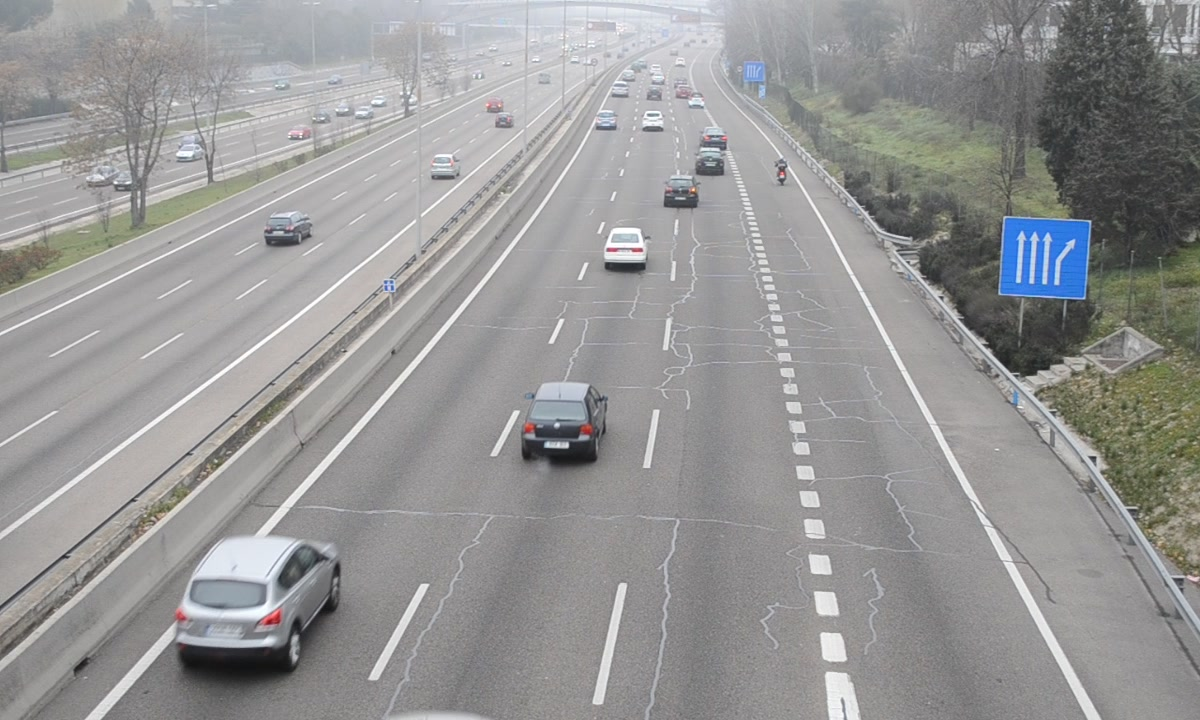car: (178, 535, 341, 656), (522, 382, 608, 456), (604, 226, 648, 268), (664, 175, 701, 209), (695, 147, 726, 177), (700, 126, 730, 149), (639, 109, 666, 133)
motorcycle: (774, 157, 790, 188)
